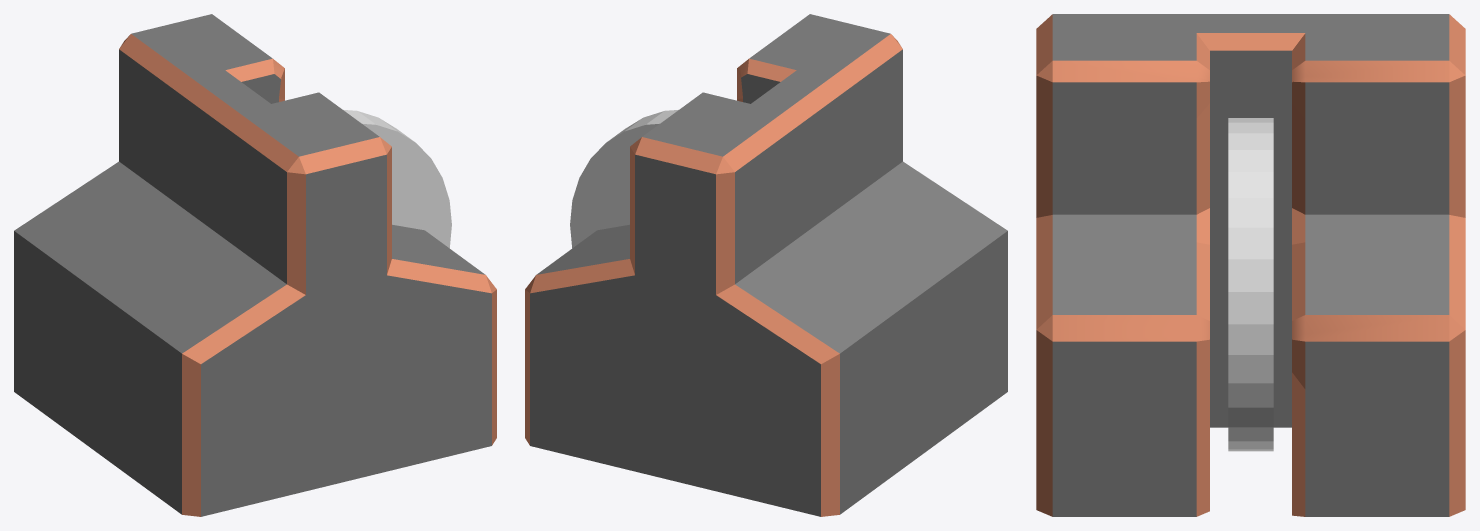
Rendered from electric miner.glb.
3 views of the same model, side by side, from view 1: azimuth 30°, elevation 25°; view 2: azimuth 150°, elevation 25°; view 3: azimuth 270°, elevation 25° (orthographic). The views are drawn at different scales.
Parts seen in each view (by area): view 1: miner, 円柱; view 2: miner, 円柱; view 3: miner, 円柱.
Part boxes in pixels (x1,y1,x2,y2): miner: (14,14,496,516); 円柱: (343,109,451,248); miner: (525,14,1007,516); 円柱: (570,109,678,248); miner: (1036,14,1465,516); 円柱: (1228,118,1273,451).
Bounding box in the file's own units: 1.09 × 1 × 1.
